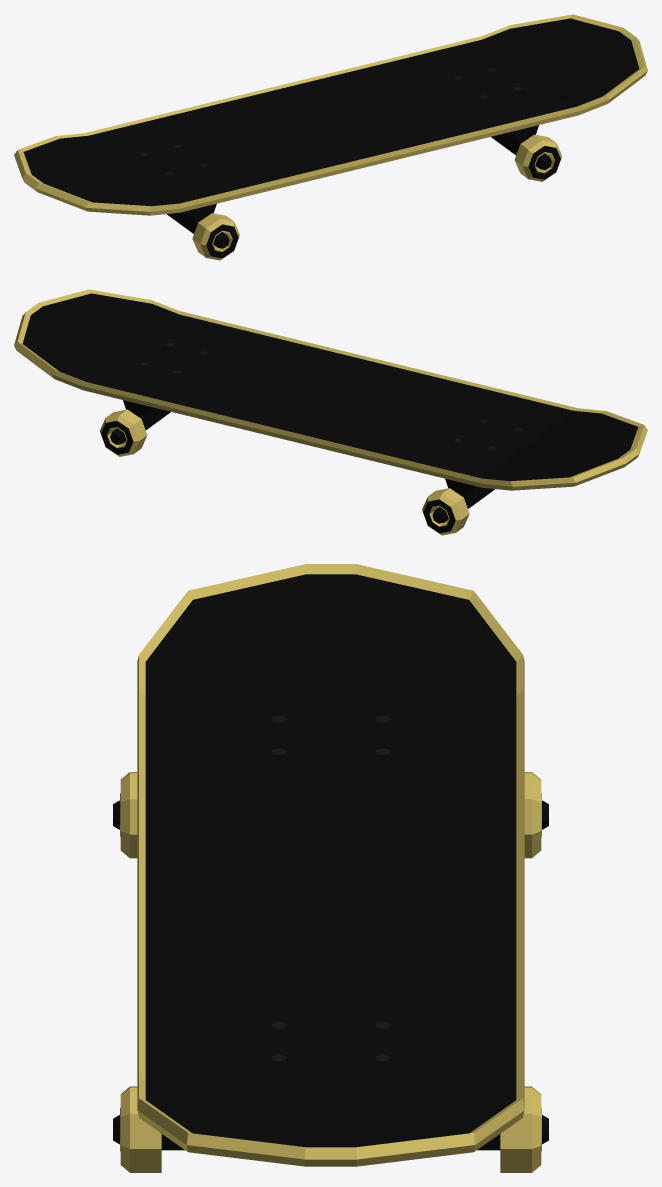
Rendered from Skate.obj.
3 renders of one model, top to bottom at view 1: azimuth 30°, elevation 25°; view 2: azimuth 150°, elevation 25°; view 3: azimuth 270°, elevation 25°, orthographic. The views are drawn at different scales.
Parts seen in each view (by area): view 1: skate; view 2: skate; view 3: skate.
Boxes of the visible parts, x1,y1,x2,y2 form: skate: [14, 14, 647, 260]; skate: [14, 289, 647, 535]; skate: [113, 564, 548, 1172].
Bounding box in the file's own units: 7.55 × 0.9453 × 2.36.
